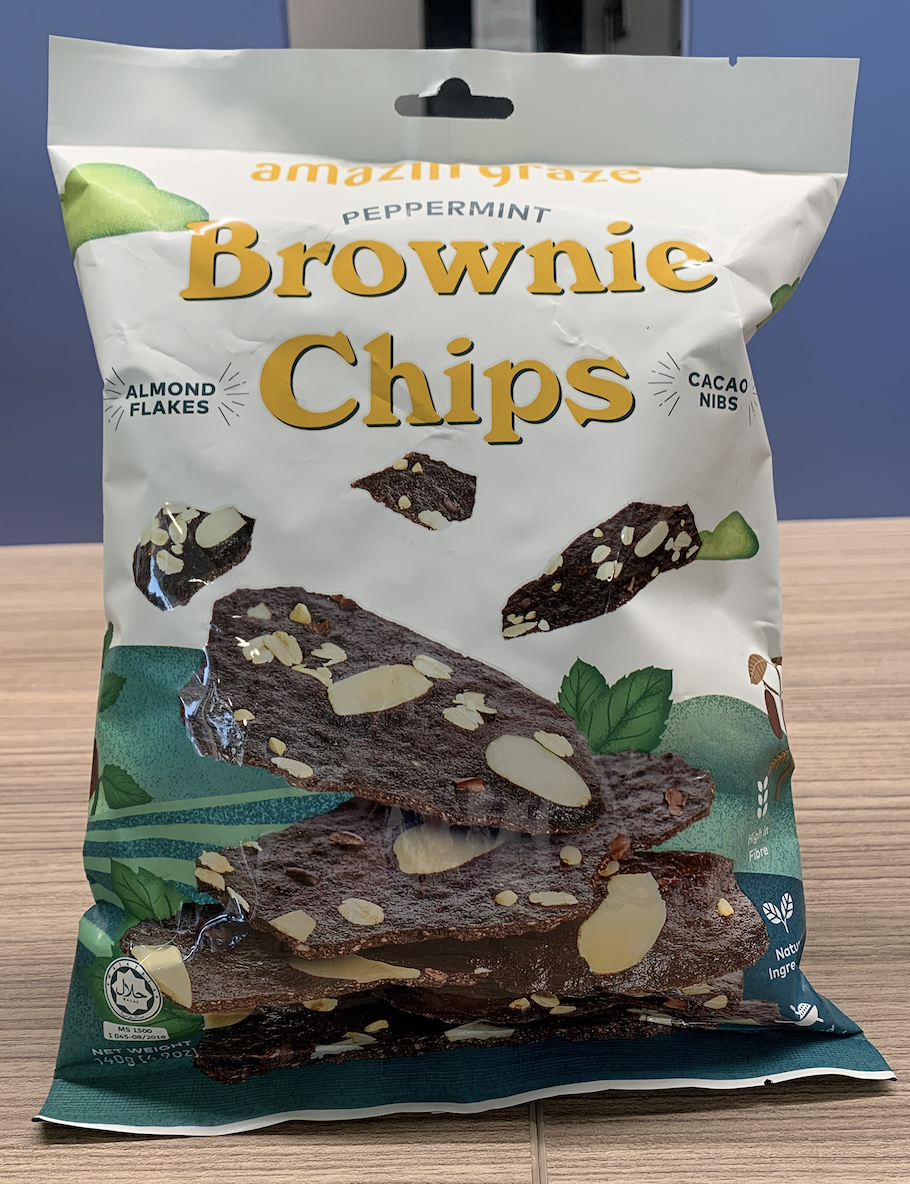crackers_150g: (106, 159, 775, 1093)
